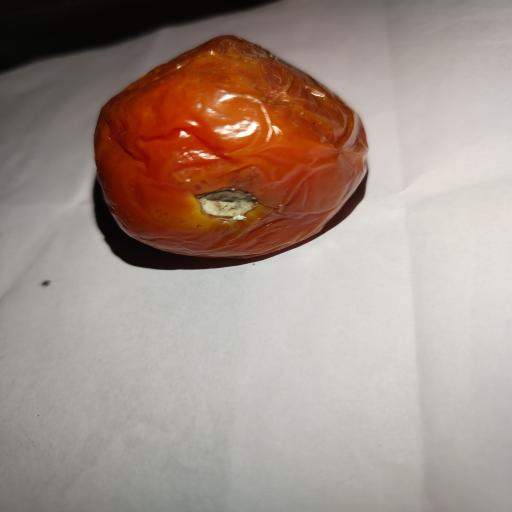spoiled: (95, 36, 367, 257)
